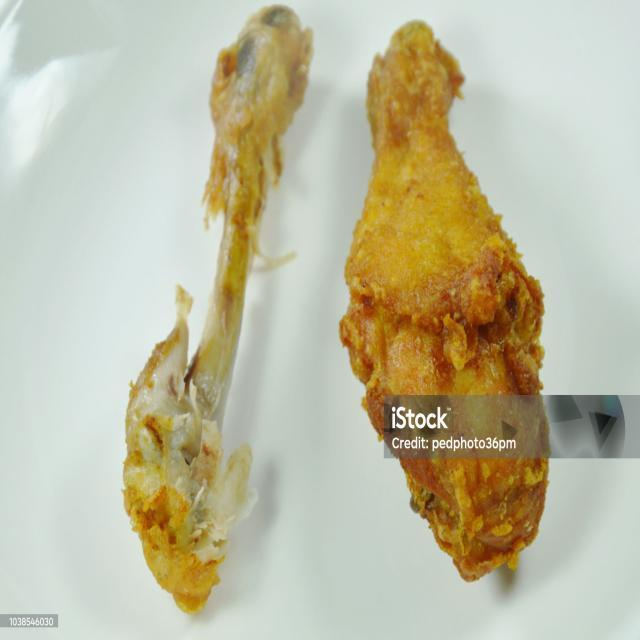Wet Waste: (139, 28, 299, 580)
